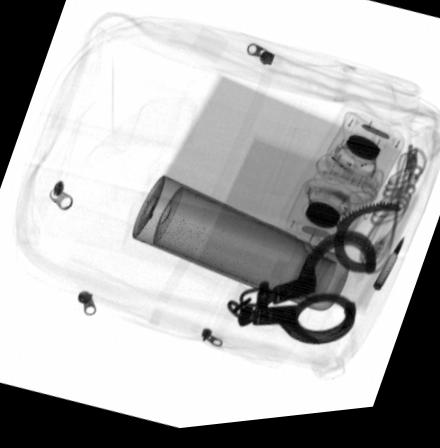Bullet: (372, 243, 404, 298)
HandCuffs: (223, 208, 403, 350)
